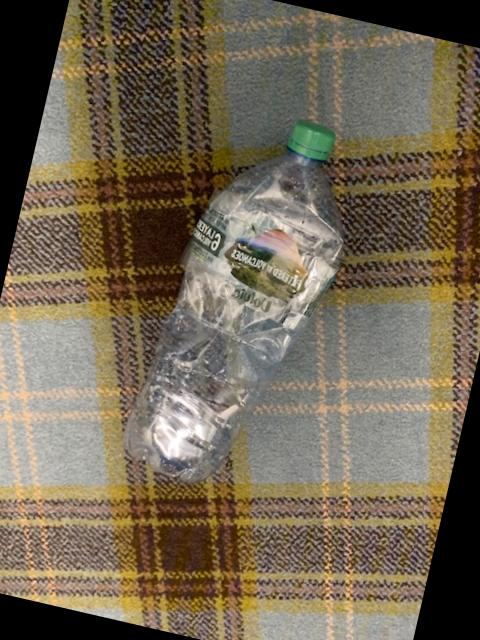plastic: (122, 121, 340, 482)
